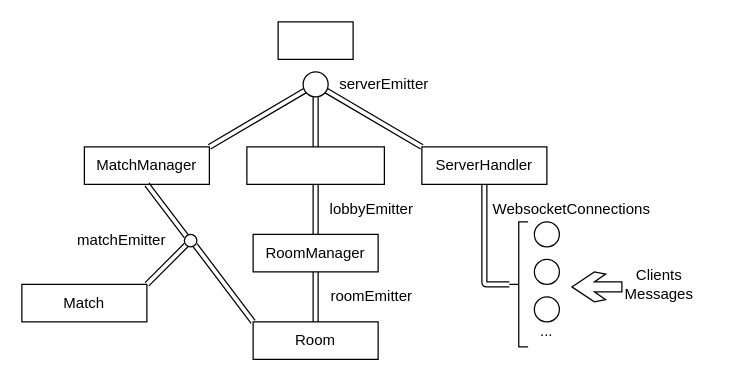
This 731x381 diagram has some shape labels left out. Here are the shapes that lost their labels. From the top down, the centre of each, then its label:
At pixel 315 40: "App".
At pixel 315 165: "LobbyManager".
